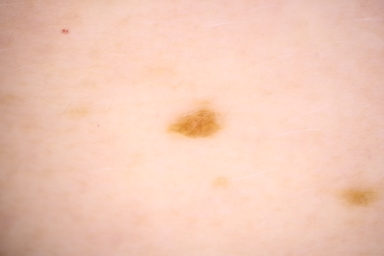nevus: (173, 112, 220, 136)
